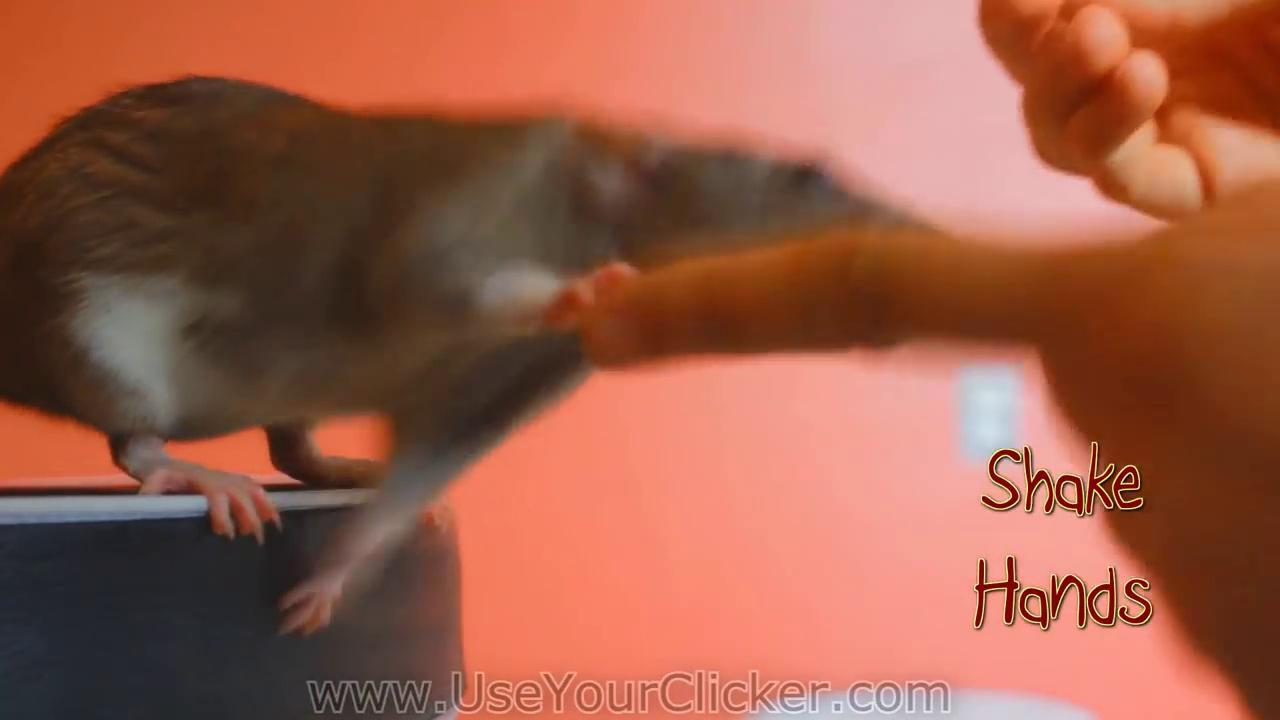rat: (0, 72, 957, 637)
